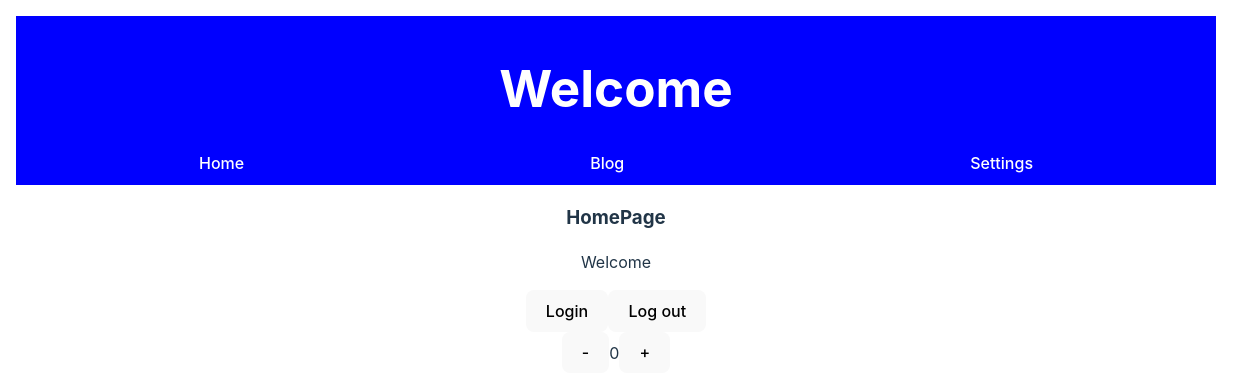
it: HomePage testing suit › should add one to counter
Click the button with test id "increase-counter" at (645, 352), box [619, 332, 670, 373]
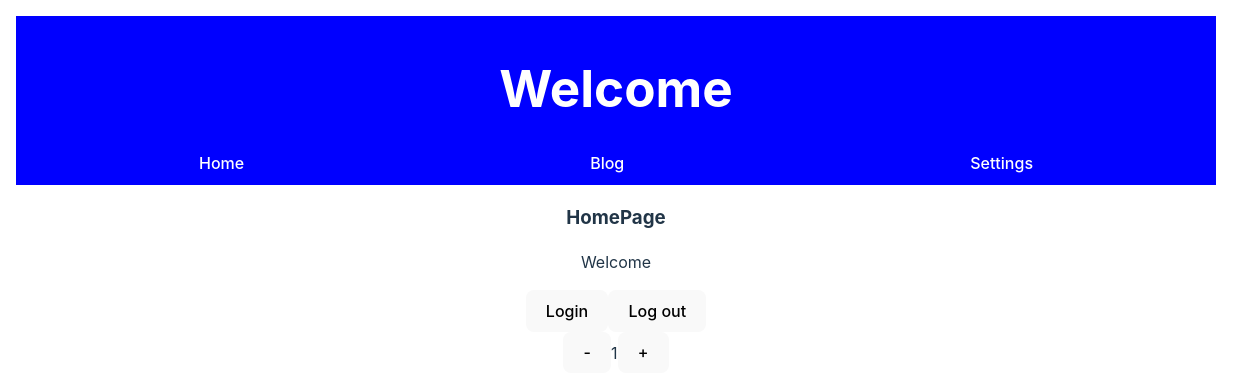
Now the text with test id "counter" reads "1", box [611, 342, 618, 362]
